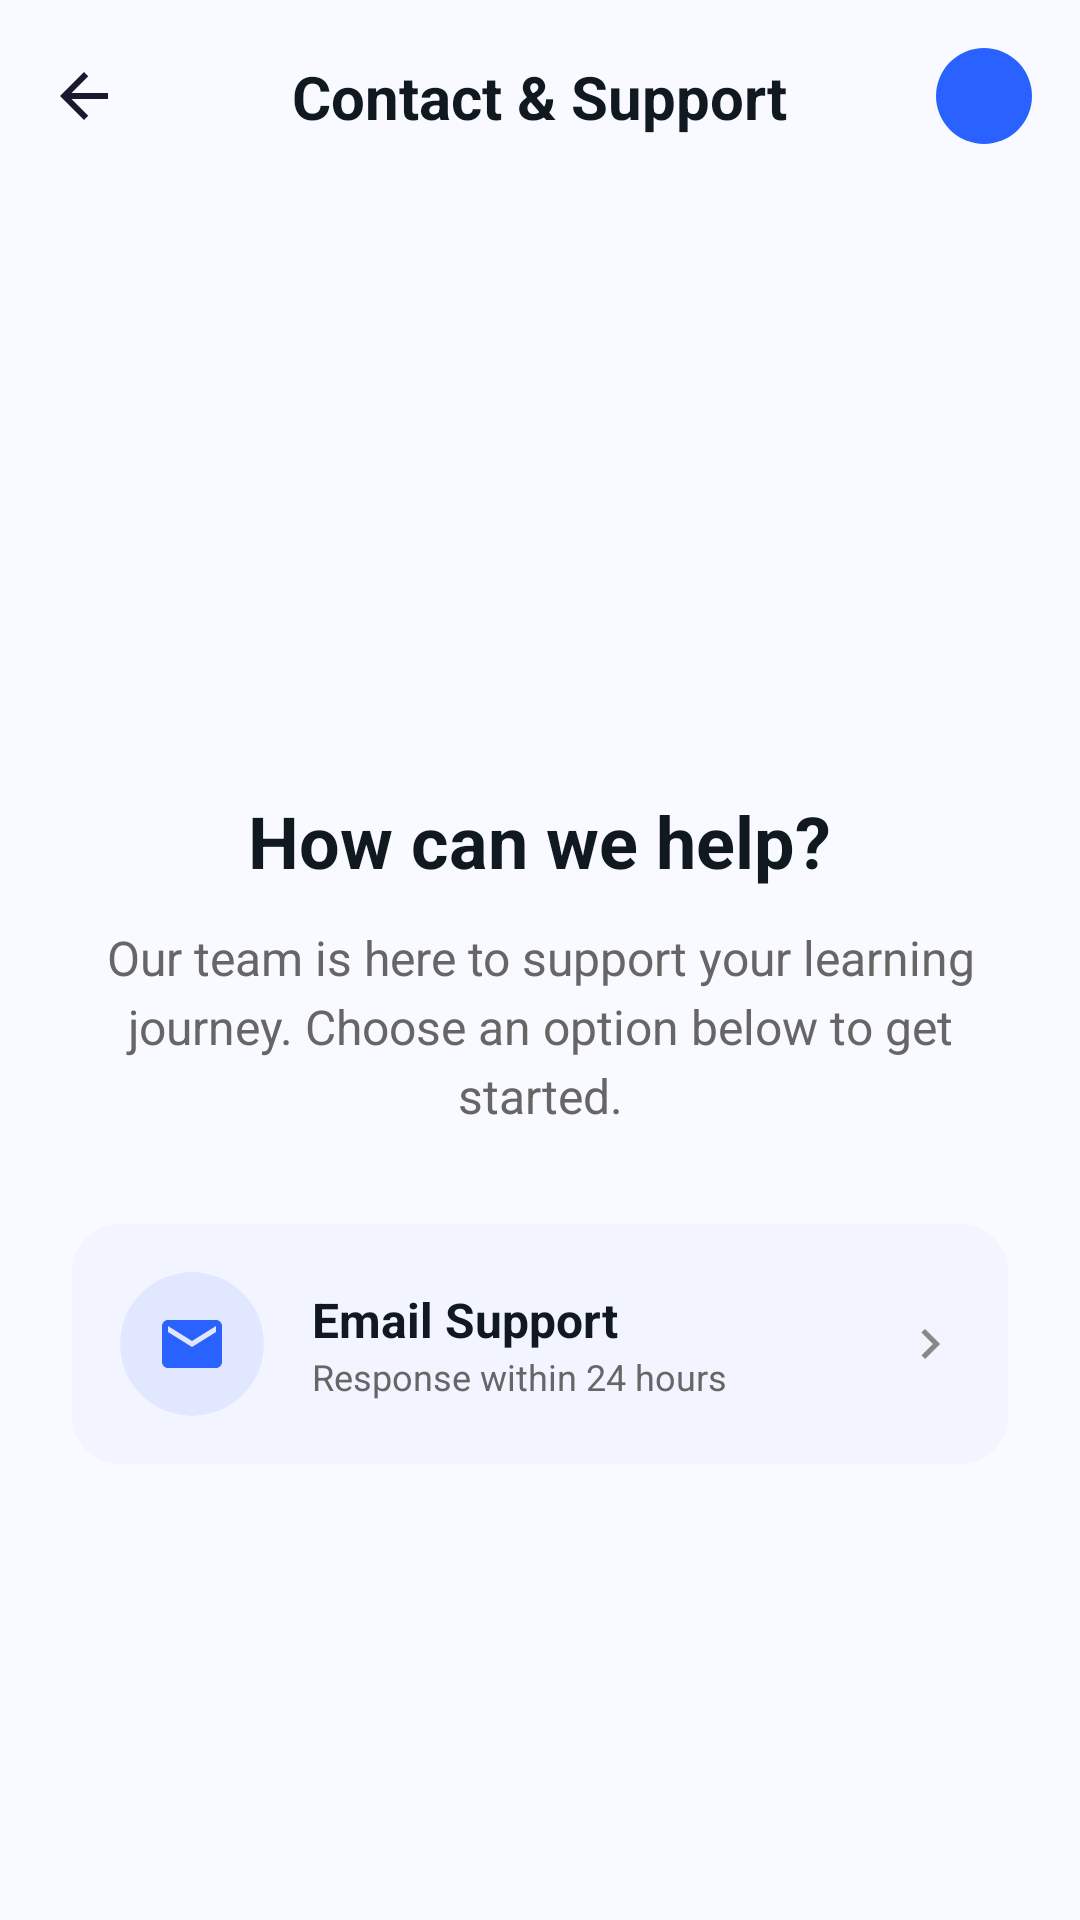

Where to tap for icons on this 1080 × 1920 app screen, as (x=x, y=y):
back: (x=84, y=96)
chevron right: (x=930, y=1344)
